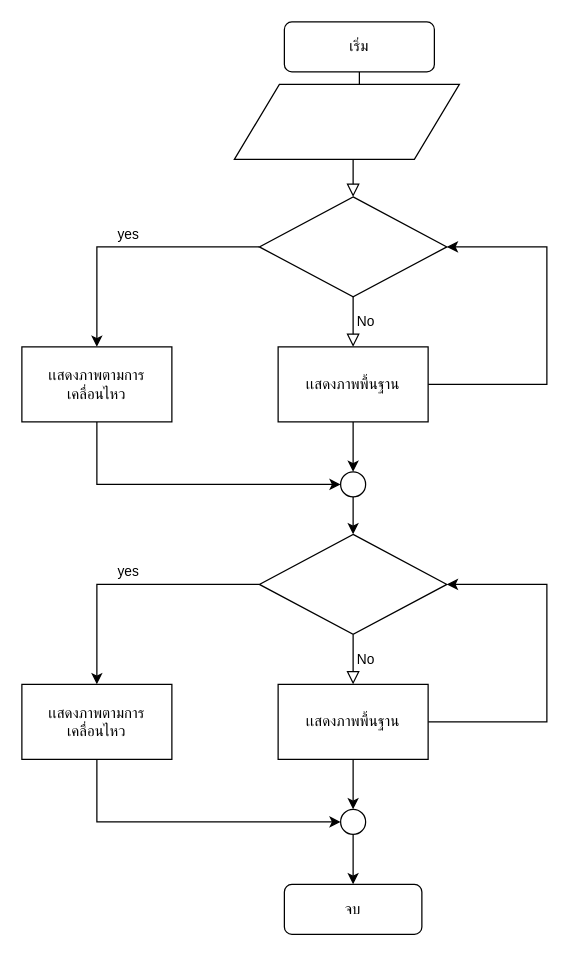
Some shapes in this 579 by 956 pixel diagram are drawn without their labels. Here are the shapes that lost their labels. From the top down, the centre of each, then its label:
point 346,121: มีวิตถุเข้ามาในพื้นที่
point 352,246: มีความร้อนหรือไม่ ?
point 352,583: มีการสัมผัสพื้นหรอไม่ ?
